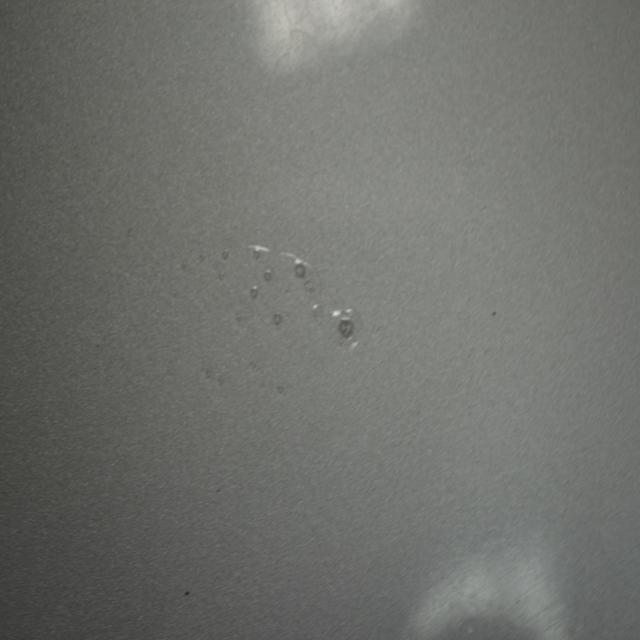dirt: (180, 583, 193, 601), (491, 303, 497, 324)
runs: (199, 242, 356, 462)
